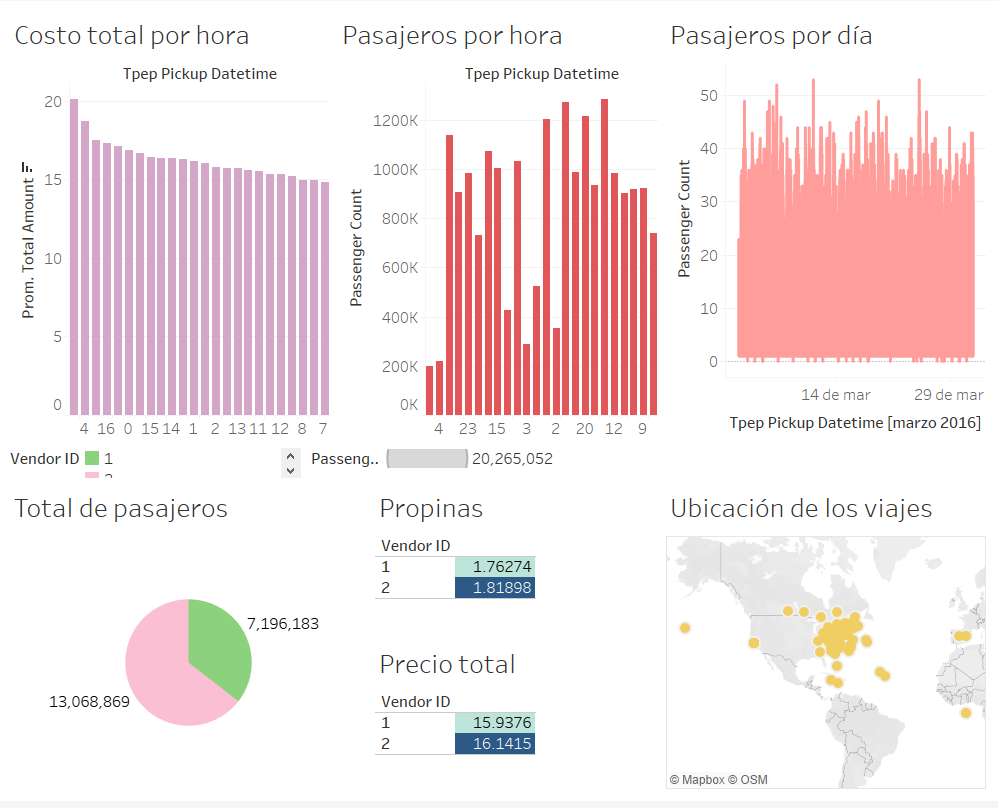

Layout of this report page (visuals, bound fields, positions):
{"tool":"tableau","page":{"name":"Dashboard 1","canvas":[1000,800],"ordinal":0},"visuals":[{"type":"worksheet","title":"Costo total por hora","mark":"Automatic","rows":["total_amount"],"cols":["tpep_pickup_datetime"],"box":[8,8,328,435]},{"type":"worksheet","title":"Pasajeros por hora ","mark":"Automatic","rows":["passenger_count"],"cols":["tpep_pickup_datetime"],"box":[336,8,328,435]},{"type":"worksheet","title":"Pasajeros por día","mark":"Automatic","rows":["passenger_count"],"cols":["tpep_pickup_datetime"],"box":[664,8,328,435]},{"type":"legend","title":"Total de pasajeros","param":"[federated.0r9kmke0vi4drx15n7ztp0ttaiv5].[none:VendorID:ok]","box":[8,443,300.9,38]},{"type":"legend","title":"Total de pasajeros","param":"[federated.0r9kmke0vi4drx15n7ztp0ttaiv5].[sum:passenger_count:qk]","box":[308.9,443,683.1,38]},{"type":"worksheet","title":"Total de pasajeros","mark":"Pie","box":[8,481,365,311]},{"type":"worksheet","title":"Propinas","mark":"Square","rows":["VendorID"],"box":[373,481,291,155.5]},{"type":"worksheet","title":"Ubicación de los viajes","mark":"Automatic","rows":["dropoff_latitude"],"cols":["dropoff_longitude"],"box":[664,481,328,311]},{"type":"worksheet","title":"Precio total","mark":"Square","rows":["VendorID"],"box":[373,636.5,291,155.5]}]}

Visuals, with their boxes in screenshot pixels (x1, y1, x2, y2), scaled from the page's 1000x800 canvas onto the 998x808 screenshot:
"Costo total por hora" worksheet: BBox(8, 8, 335, 447)
"Pasajeros por hora " worksheet: BBox(335, 8, 663, 447)
"Pasajeros por día" worksheet: BBox(663, 8, 990, 447)
"Total de pasajeros" legend: BBox(8, 447, 308, 486)
"Total de pasajeros" legend: BBox(308, 447, 990, 486)
"Total de pasajeros" worksheet (Pie marks): BBox(8, 486, 372, 800)
"Propinas" worksheet (Square marks): BBox(372, 486, 663, 643)
"Ubicación de los viajes" worksheet: BBox(663, 486, 990, 800)
"Precio total" worksheet (Square marks): BBox(372, 643, 663, 800)
